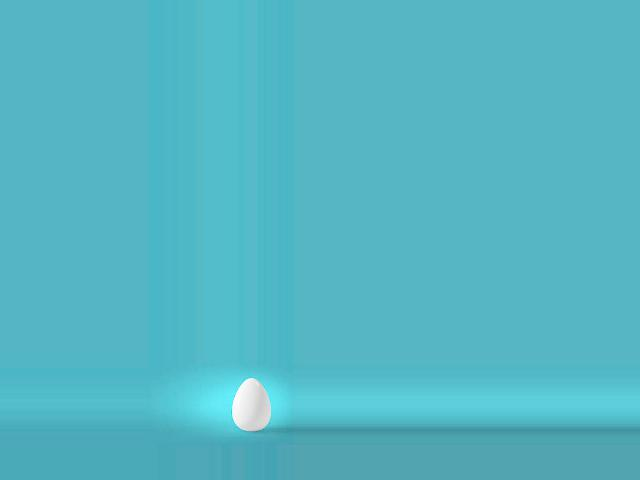egg: (232, 378, 271, 432)
